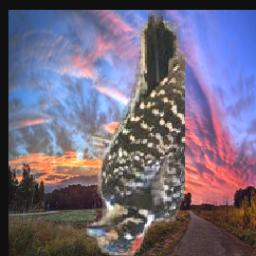Woodpecker: (88, 10, 186, 256)
